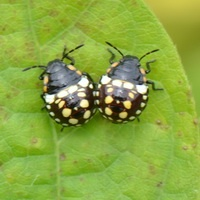insect: (23, 42, 162, 128), (23, 44, 98, 126), (99, 42, 158, 122)
